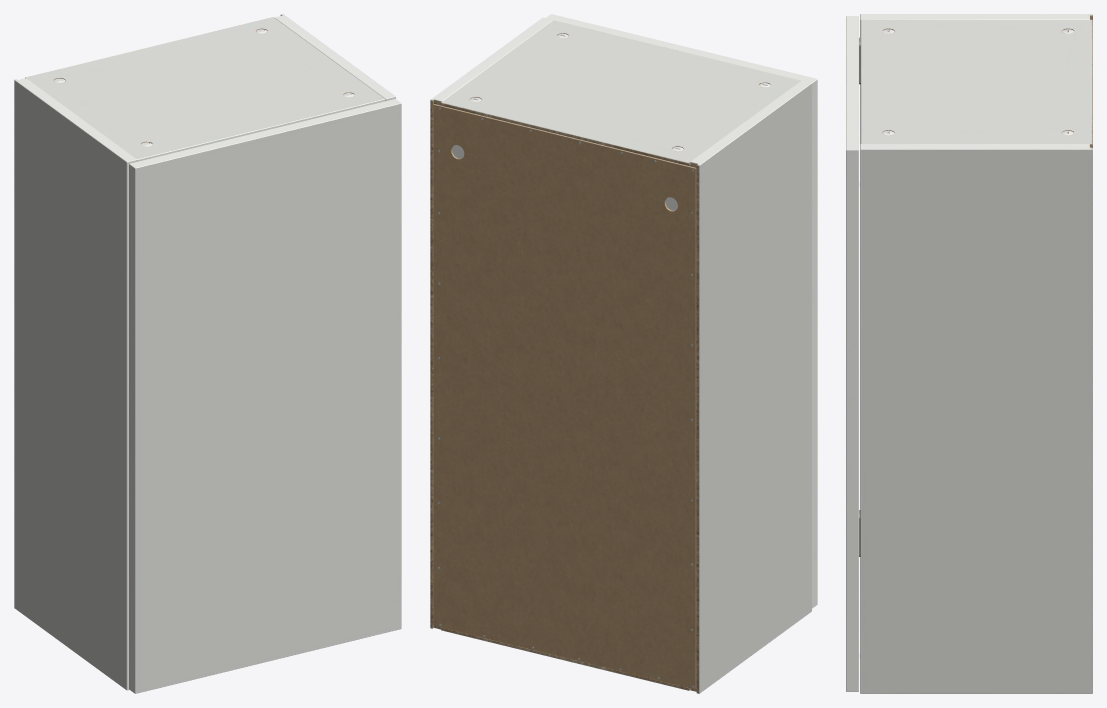
File: knoxhult_szafka_wiszaca_z_drzwiczkami_50326789.glb
3 renders of one model, left to right at view 1: azimuth 30°, elevation 25°; view 2: azimuth 150°, elevation 25°; view 3: azimuth 270°, elevation 25°, orthographic. The views are drawn at different scales.
Parts seen in each view (by area): view 1: knoxhult_szafka_wiszaca_z_drzwiczkami_50326789; view 2: knoxhult_szafka_wiszaca_z_drzwiczkami_50326789; view 3: knoxhult_szafka_wiszaca_z_drzwiczkami_50326789.
Part boxes in pixels (x1,y1,x2,y2): knoxhult_szafka_wiszaca_z_drzwiczkami_50326789: (14, 14, 401, 693); knoxhult_szafka_wiszaca_z_drzwiczkami_50326789: (430, 14, 817, 693); knoxhult_szafka_wiszaca_z_drzwiczkami_50326789: (846, 14, 1092, 693).
Size of the model in its own units: 0.4 by 0.75 by 0.308.
2 materials, 2 textured.
